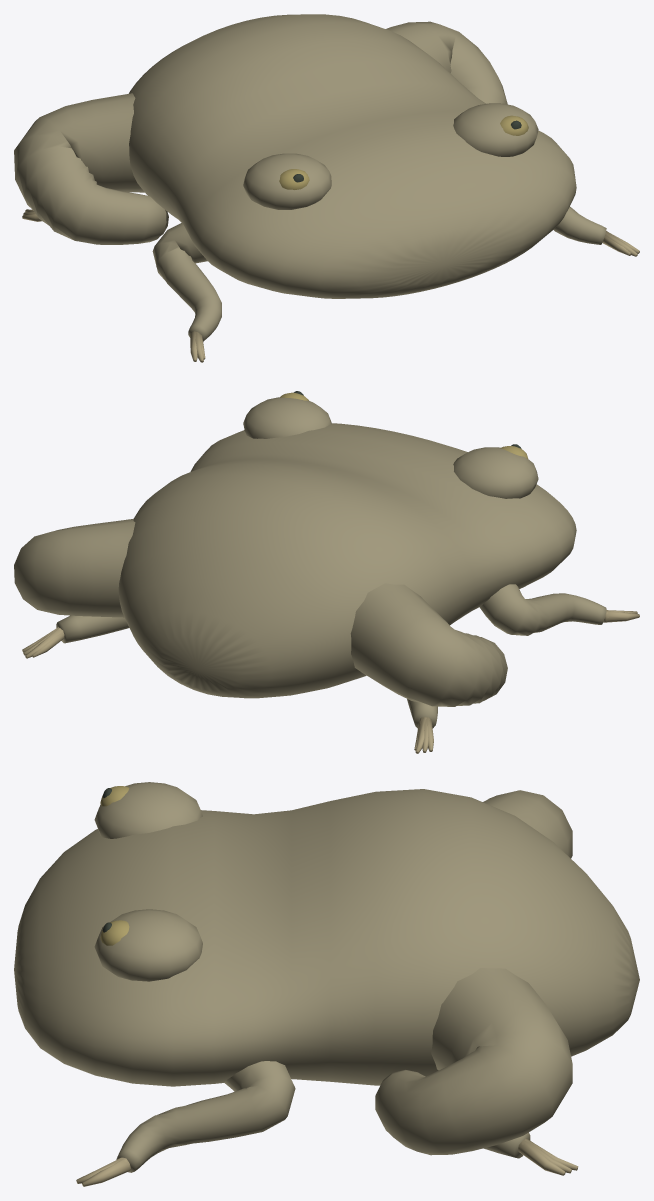
Rendered from beelzebufo.glb.
3 renders of one model, top to bottom at view 1: azimuth 30°, elevation 25°; view 2: azimuth 150°, elevation 25°; view 3: azimuth 270°, elevation 25°, orthographic. The views are drawn at different scales.
Parts seen in each view (by area): view 1: continuous-broad-flanged-head-and-low-frog-body, muscular-folded-hindlimbs-and-grounded-forelimbs, small-bony-orbital-rises-and-eyes, splayed-grounded-simplified-digits; view 2: continuous-broad-flanged-head-and-low-frog-body, muscular-folded-hindlimbs-and-grounded-forelimbs, small-bony-orbital-rises-and-eyes, splayed-grounded-simplified-digits; view 3: continuous-broad-flanged-head-and-low-frog-body, muscular-folded-hindlimbs-and-grounded-forelimbs, small-bony-orbital-rises-and-eyes, splayed-grounded-simplified-digits.
Boxes of the visible parts, <box> form: continuous-broad-flanged-head-and-low-frog-body: <box>129,14,576,298</box>; muscular-folded-hindlimbs-and-grounded-forelimbs: <box>14,21,606,341</box>; small-bony-orbital-rises-and-eyes: <box>243,103,538,209</box>; splayed-grounded-simplified-digits: <box>22,209,639,362</box>; continuous-broad-flanged-head-and-low-frog-body: <box>118,423,576,698</box>; muscular-folded-hindlimbs-and-grounded-forelimbs: <box>14,518,606,728</box>; small-bony-orbital-rises-and-eyes: <box>243,391,538,498</box>; splayed-grounded-simplified-digits: <box>22,610,639,753</box>; continuous-broad-flanged-head-and-low-frog-body: <box>14,789,639,1086</box>; muscular-folded-hindlimbs-and-grounded-forelimbs: <box>116,790,572,1172</box>; small-bony-orbital-rises-and-eyes: <box>94,782,202,981</box>; splayed-grounded-simplified-digits: <box>76,1138,578,1186</box>.
Bounding box in the file's own units: 0.2391 × 0.0898 × 0.2194.
